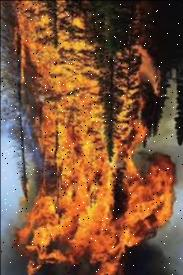fire: (2, 2, 176, 275)
